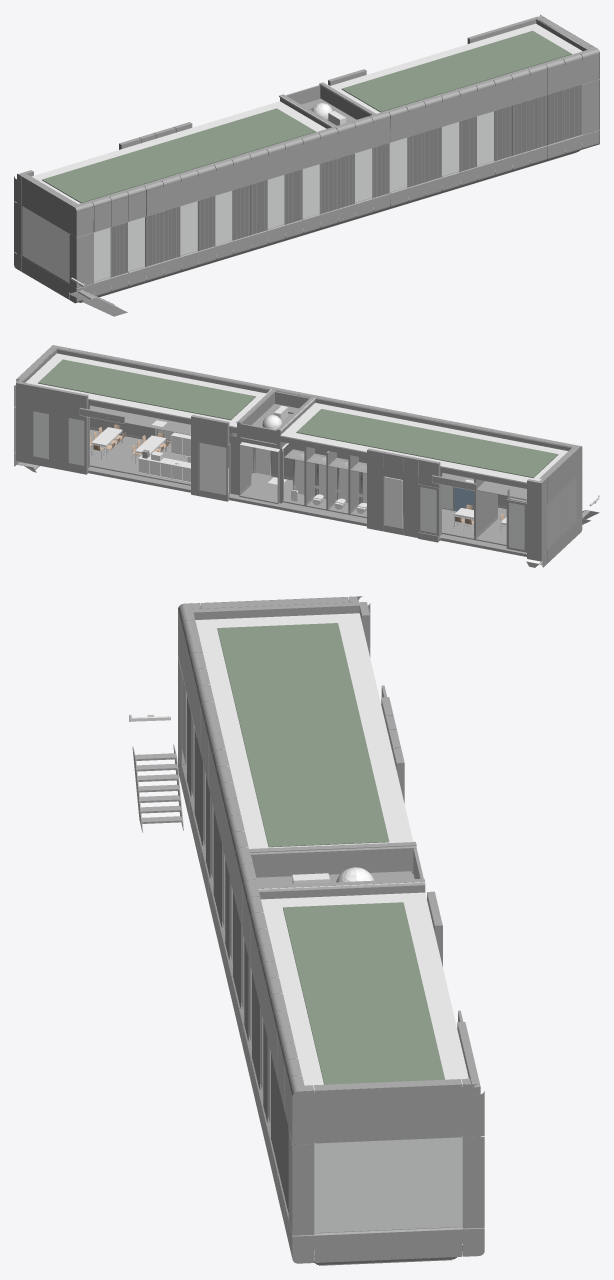
Rendered from opkomstopt.gltf.
The picture shows the model from 3 angles, top to bottom: view 1: azimuth 30°, elevation 25°; view 2: azimuth 150°, elevation 25°; view 3: azimuth 270°, elevation 25°; orthographic projection. The views are drawn at different scales.
Parts seen in each view (by area): view 1: Export_Opkomst; view 2: Export_Opkomst; view 3: Export_Opkomst.
Boxes of the visible parts, bbox=[...] form: Export_Opkomst: bbox=[14, 15, 599, 316]; Export_Opkomst: bbox=[14, 345, 599, 567]; Export_Opkomst: bbox=[129, 596, 484, 1265].
Size of the model in its own units: 29.13 by 5.26 by 8.83.
